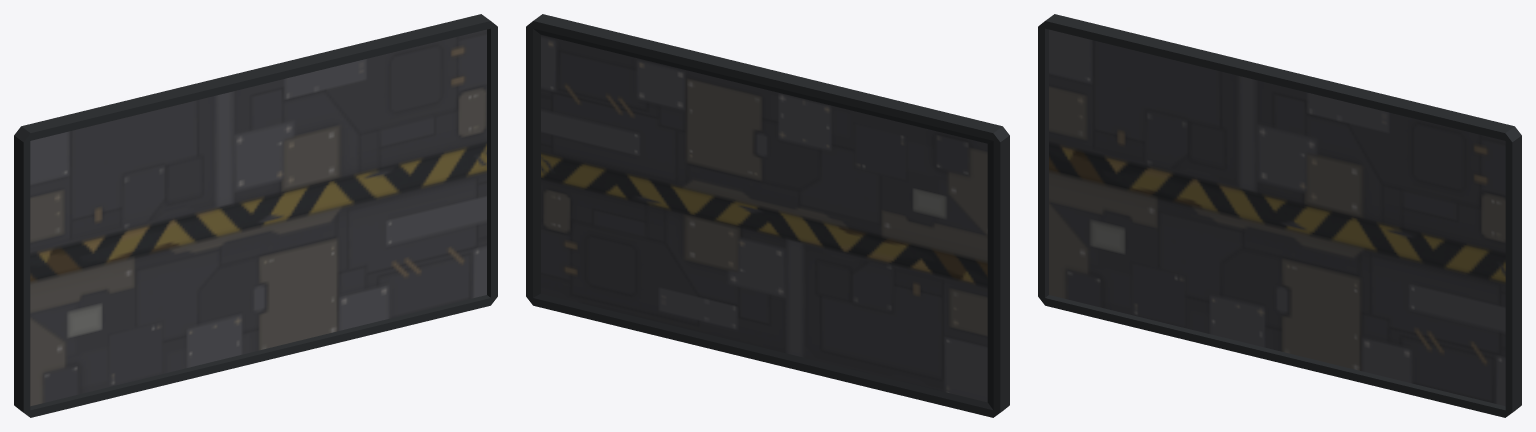
Rendered from SM_Prop_Billboard_Backing_Small_02.fbx.
The picture shows the model from 3 angles, left to right: view 1: azimuth 30°, elevation 25°; view 2: azimuth 150°, elevation 25°; view 3: azimuth 330°, elevation 25°; orthographic projection.
Visible parts, largest first — view 1: SM_Prop_Billboard_Backing_Small_02; view 2: SM_Prop_Billboard_Backing_Small_02; view 3: SM_Prop_Billboard_Backing_Small_02.
Part boxes in pixels (<box>): SM_Prop_Billboard_Backing_Small_02: <box>14,14,497,417</box>; SM_Prop_Billboard_Backing_Small_02: <box>526,14,1009,417</box>; SM_Prop_Billboard_Backing_Small_02: <box>1038,14,1521,417</box>.
Size of the model in its own units: 806 by 462 by 27.96.
